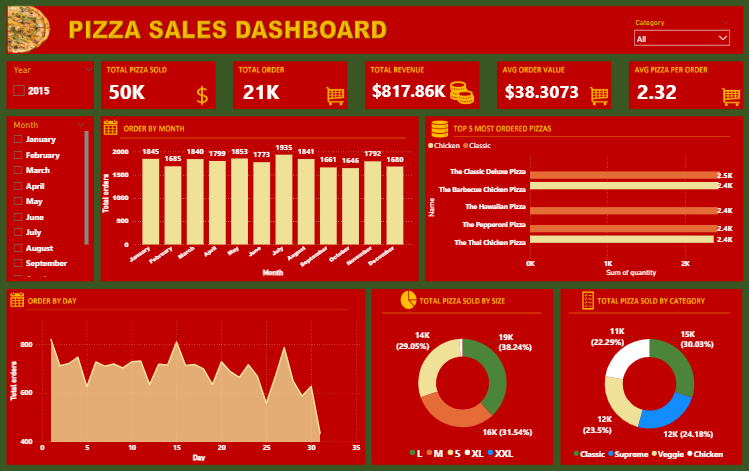

This screenshot's page, from the dashboard's own definition file:
{"tool":"powerbi","page":{"name":"Page 1","canvas":[1500,950],"ordinal":0},"visuals":[{"type":"card","fields":{"Values":["order_details.Total pizzas sold"]},"box":[198,150,110,72],"z":0},{"type":"card","fields":{"Values":["order_details.Total orders"]},"box":[466,150,112,72],"z":1000},{"type":"card","fields":{"Values":["order_details.Average Total value"]},"box":[1000,150,168.3,71.7],"z":2000},{"type":"card","fields":{"Values":["pizzas.Total Revenue"]},"box":[736.7,150,161.7,70],"z":3000},{"type":"card","fields":{"Values":["order_details.Average pizza per order"]},"box":[1264,150,100,72],"z":4000},{"type":"columnChart","fields":{"Y":["order_details.Total orders"],"Category":["orders.order_date.Variation.Date Hierarchy.Month"]},"box":[198,274,630,288],"z":5000},{"type":"lineChart","fields":{"Y":["order_details.Total orders"],"Category":["orders.order_date.Variation.Date Hierarchy.Day"]},"box":[14,630,708,296],"z":6000},{"type":"donutChart","fields":{"Y":["order_details.Total pizzas sold"],"Category":["pizza_types.Category"]},"box":[1126,644,346,282],"z":7000},{"type":"donutChart","fields":{"Y":["Sum(order_details.quantity)"],"Category":["pizzas.size"]},"box":[750,630,350,296],"z":8000},{"type":"slicer","fields":{"Values":["orders.order_date.Variation.Date Hierarchy.Year"]},"box":[14,128,184,94],"z":9000},{"type":"slicer","fields":{"Values":["orders.order_date.Variation.Date Hierarchy.Month"]},"box":[14,238,168,324],"z":10000},{"type":"clusteredBarChart","fields":{"Category":["pizza_types.Name"],"Series":["pizza_types.Category"],"Y":["Sum(order_details.quantity)"]},"box":[850,274,636,288],"z":11000},{"type":"slicer","fields":{"Values":["pizza_types.Category"]},"box":[1258,36,212,60],"z":12000}]}

Visuals, with their boxes in screenshot pixels (x1, y1, x2, y2), scaled from the page's 1500x950 canvas onto the 749x471 screenshot:
card - order_details.Total pizzas sold: 99,74,154,110
card - order_details.Total orders: 233,74,289,110
card - order_details.Average Total value: 499,74,583,110
card - pizzas.Total Revenue: 368,74,449,109
card - order_details.Average pizza per order: 631,74,681,110
columnChart - order_details.Total orders x orders.order_date.Variation.Date Hierarchy.Month: 99,136,413,279
lineChart - order_details.Total orders x orders.order_date.Variation.Date Hierarchy.Day: 7,312,361,459
donutChart - order_details.Total pizzas sold x pizza_types.Category: 562,319,735,459
donutChart - Sum(order_details.quantity) x pizzas.size: 374,312,549,459
slicer - orders.order_date.Variation.Date Hierarchy.Year: 7,63,99,110
slicer - orders.order_date.Variation.Date Hierarchy.Month: 7,118,91,279
clusteredBarChart - pizza_types.Name x pizza_types.Category: 424,136,742,279
slicer - pizza_types.Category: 628,18,734,48
